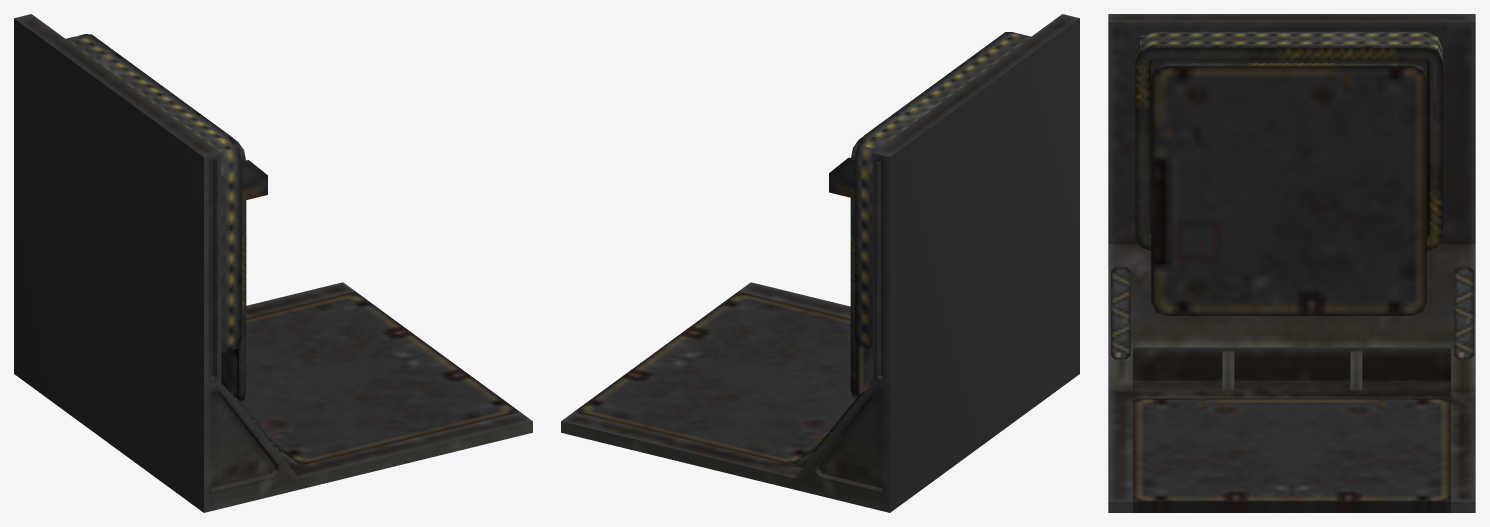
Rendered from Wall-Floor_13.FBX.
The picture shows the model from 3 angles, left to right: view 1: azimuth 30°, elevation 25°; view 2: azimuth 150°, elevation 25°; view 3: azimuth 270°, elevation 25°; orthographic projection. The views are drawn at different scales.
Parts seen in each view (by area): view 1: Wall-Floor_13; view 2: Wall-Floor_13; view 3: Wall-Floor_13.
Part boxes in pixels (bbox=[...]): Wall-Floor_13: bbox=[14, 14, 532, 512]; Wall-Floor_13: bbox=[561, 14, 1079, 512]; Wall-Floor_13: bbox=[1108, 14, 1475, 512].
Bounding box in the file's own units: 300 × 310 × 300.
